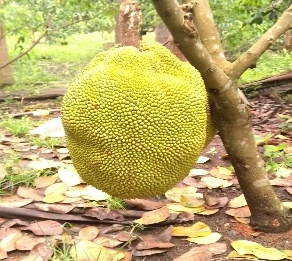Mit: (63, 50, 214, 203)
